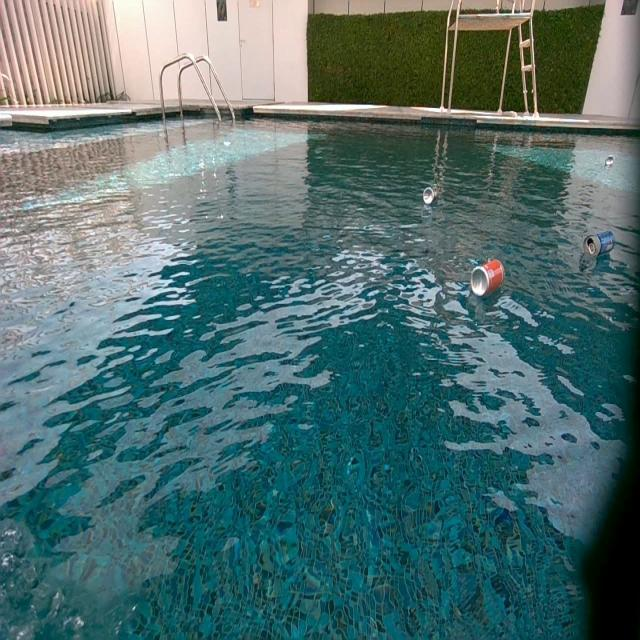Cans: (471, 260, 504, 300), (584, 232, 617, 260), (423, 187, 437, 205), (603, 156, 614, 169)
